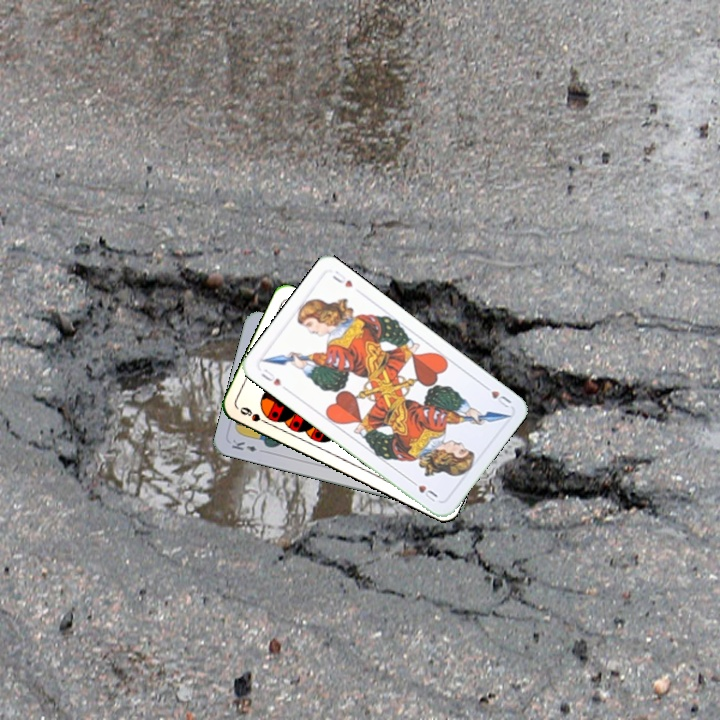EK: (227, 435, 268, 455)
HU: (479, 380, 514, 410), (257, 365, 284, 389)
S9: (236, 403, 273, 428)
